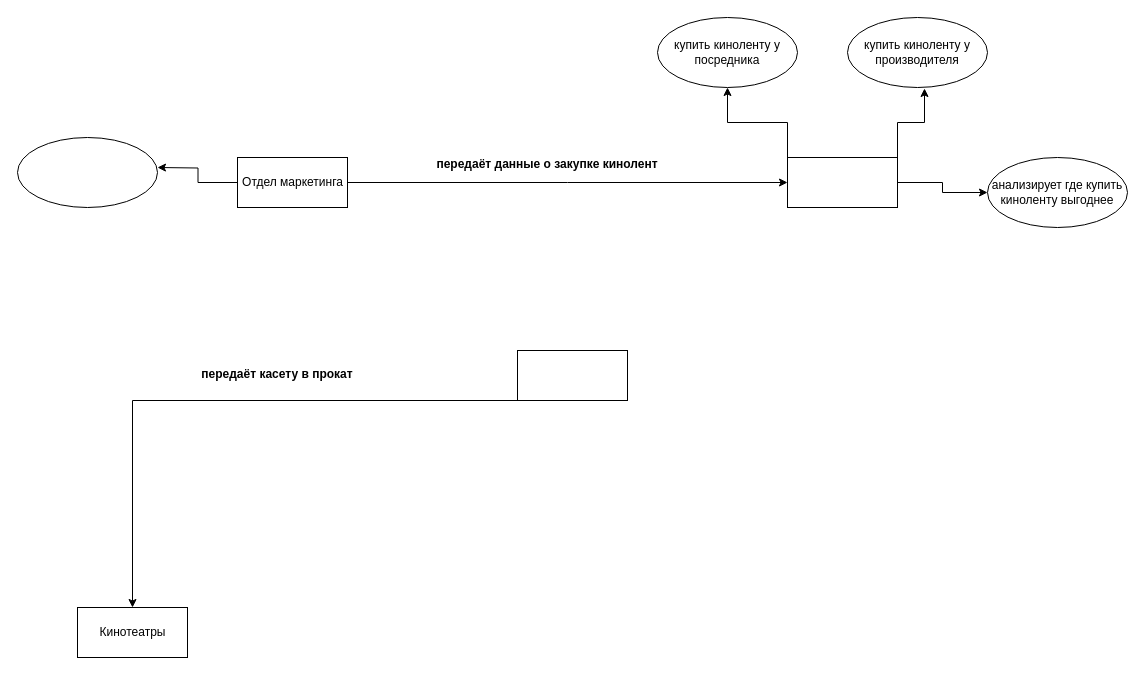
Image size: 1145x675. Some labels were removed from this diagram. The shapes that lost their labels are listed below. From the top down, each one's box as (x1, y1, x2, y2) in pixels, then its label:
(16, 136, 158, 208): Изучает ситуацию на рынке
(786, 156, 898, 208): Отдел закупок
(516, 350, 628, 400): Отдел аренды
